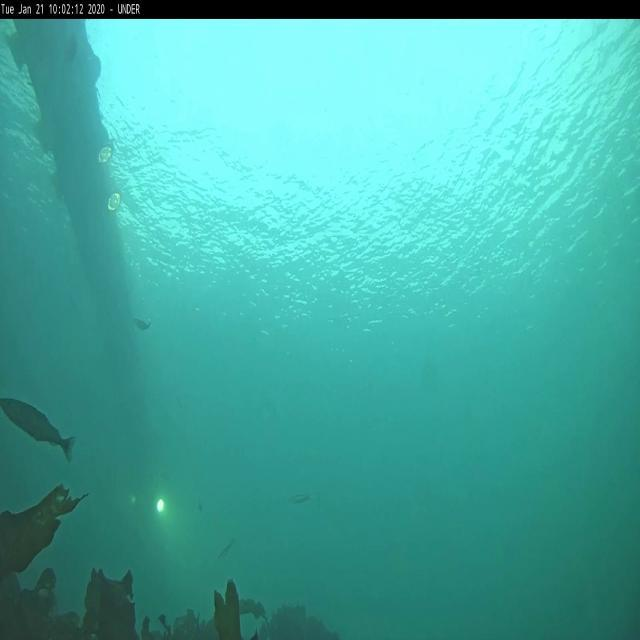fish: (0, 397, 76, 462), (218, 538, 234, 562), (132, 317, 150, 331), (286, 494, 311, 502)
